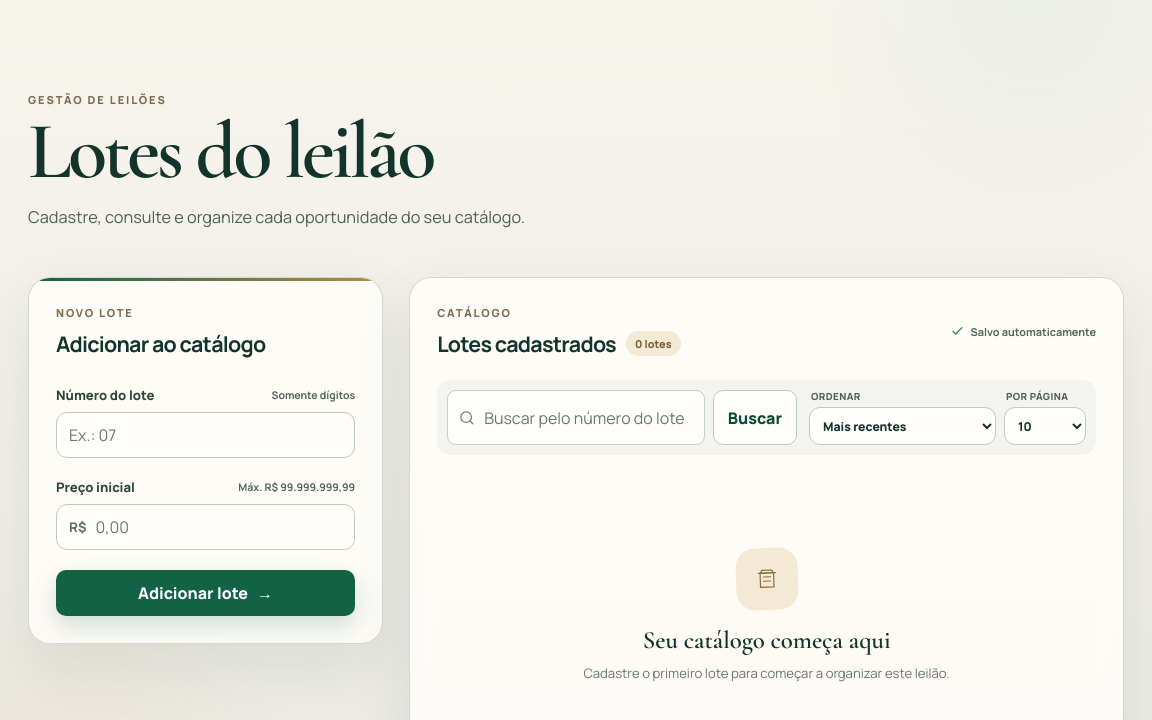
Test: App › cria um lote e retorna à primeira página da ordenação padrão
The width and height of the screenshot is (1152, 720).
Expected: the heading "Seu catálogo começa aqui" is shown, 643,625 -> 890,655
In the field labelled "Número do lote": (206, 435) 56,412 -> 355,458, type "07"
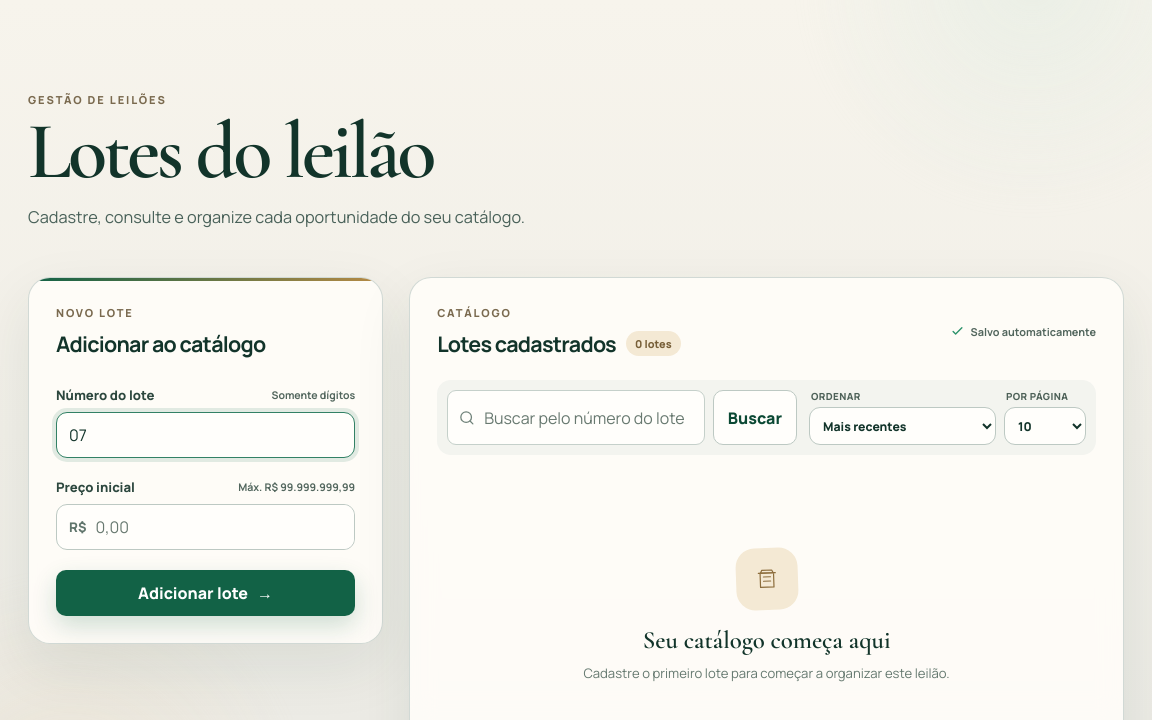
In the field labelled "Preço inicial": (224, 527) 93,505 -> 354,549, type "1850,00"
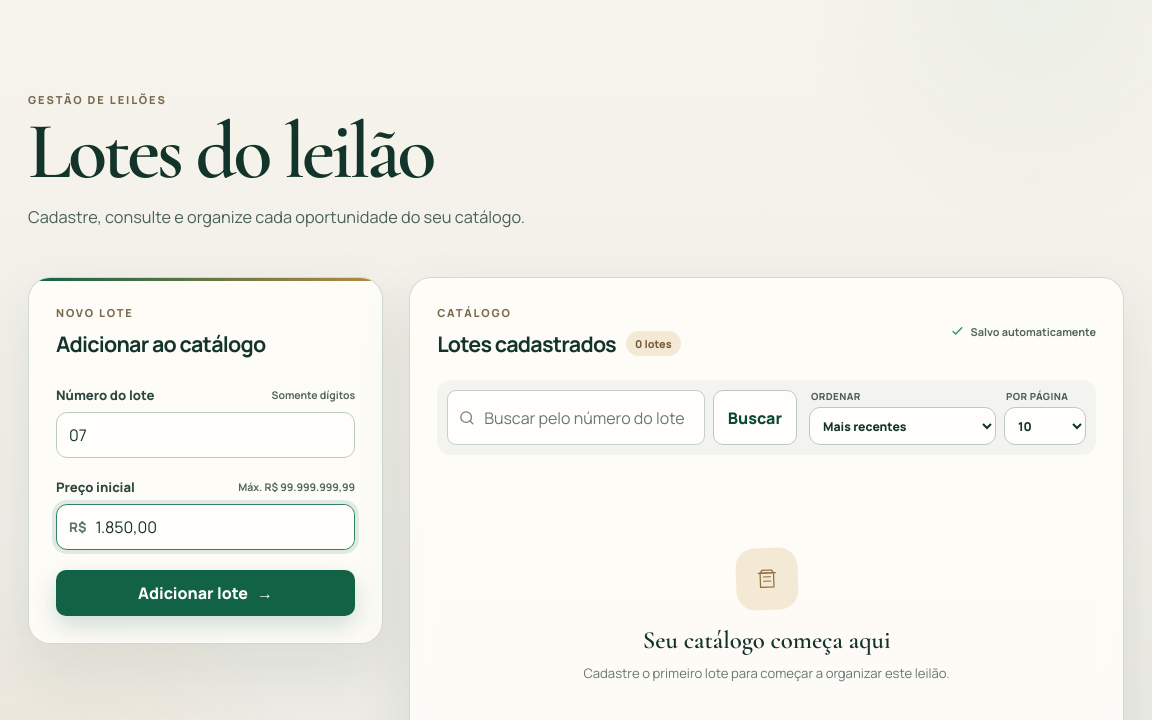
Click the button "Adicionar lote →": (206, 593) 56,570 -> 355,616
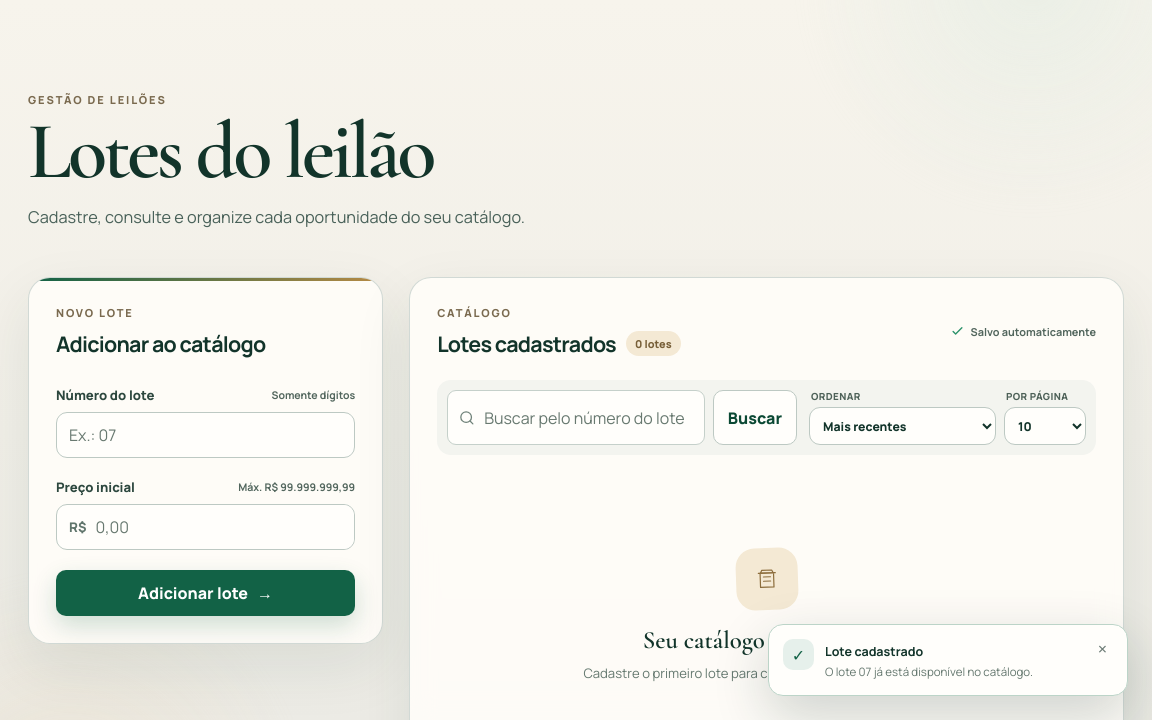
Expected: the text "O lote 07 já está disponível no catálogo." is shown, 825,664 -> 1033,679
